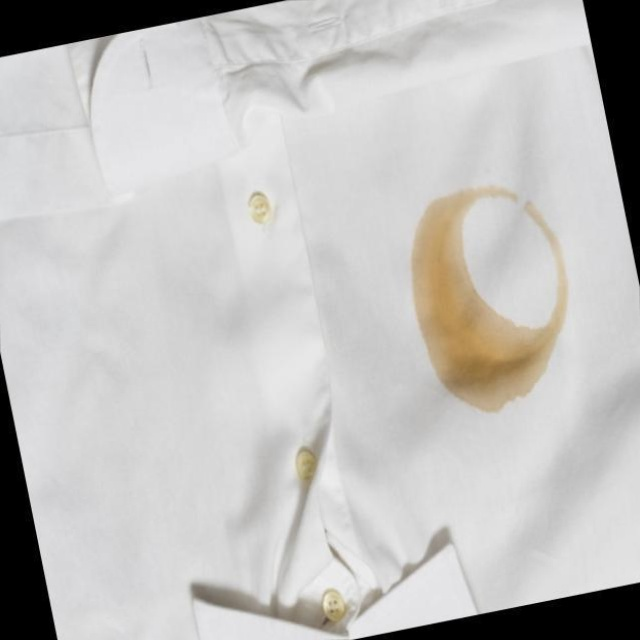coffee: (415, 313, 555, 414), (404, 191, 476, 312)
